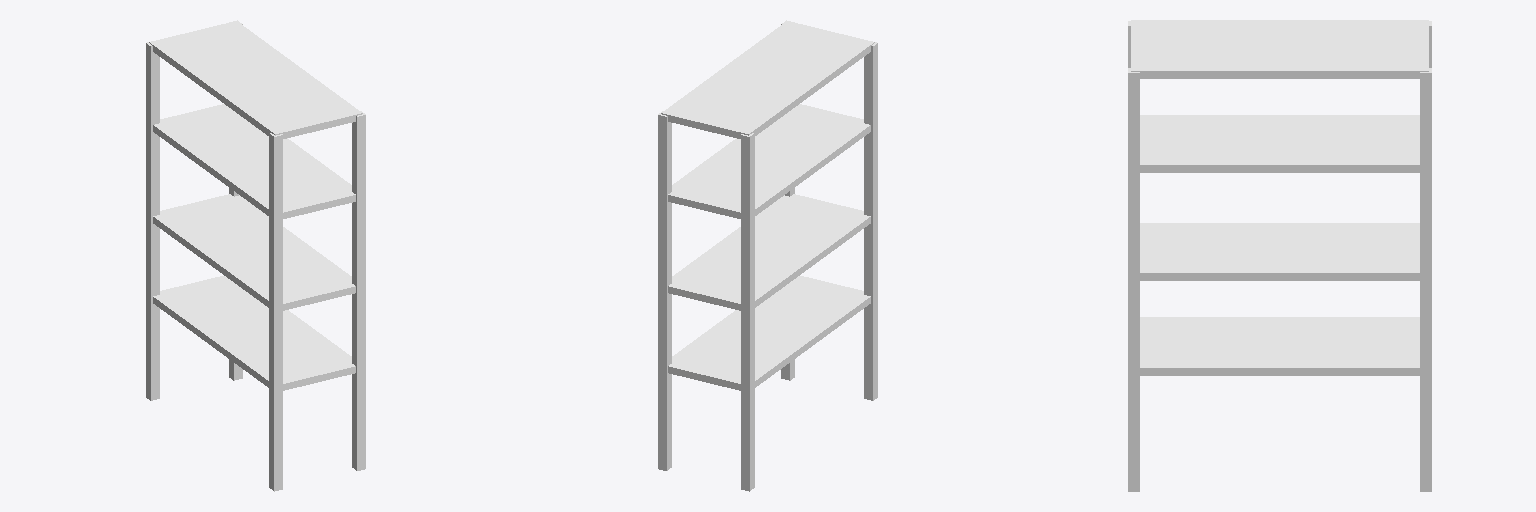
robot.urdf — environment:
<?xml version="1.0"?>
<robot name="environment">

<material name="white">
  <color rgba="1 1 1 1"/>
</material>

<!-- base -->
  <link name="base_link">
  <visual>
   <geometry>
    <cylinder length="0.0" radius="0.0"/>
   </geometry>
   <origin rpy = "0 0 0" xyz = "0 0 0"/>
  </visual>
  </link>
  
  <!-- body -->

   <!-- lv1-->
  <link name = "lv_1">
    <visual>
      <geometry>
        <box size="0.4 1.0 0.03"/>
      </geometry>
      <material name="white"/>
      <origin rpy = "0 0 0" xyz = "0 0 0"/>
    </visual>
  </link>
  <joint name = "base_to_lv_1" type = "fixed">
    <parent link = "base_link"/>
    <child link = "lv_1"/>
    <origin rpy="0 0 0.0" xyz="0 0 0.45"/> 
  </joint>
   <!-- lv2-->
  <link name = "lv_2">
    <visual>
      <geometry>
        <box size="0.4 1.0 0.03"/>
      </geometry>
      <material name="white"/>
      <origin rpy = "0 0 0" xyz = "0 0 0"/>
    </visual>
  </link>
  <joint name = "base_to_lv_2" type = "fixed">
    <parent link = "base_link"/>
    <child link = "lv_2"/>
    <origin rpy="0 0 0.0" xyz="0 0 0.8"/> 
  </joint>
   <!-- lv3-->
  <link name = "lv_3">
    <visual>
      <geometry>
        <box size="0.4 1.0 0.03"/>
      </geometry>
      <material name="white"/>
      <origin rpy = "0 0 0" xyz = "0 0 0"/>
    </visual>
  </link>
  <joint name = "base_to_lv_3" type = "fixed">
    <parent link = "base_link"/>
    <child link = "lv_3"/>
    <origin rpy="0 0 0.0" xyz="0 0 1.2"/> 
  </joint>
   <!-- lv4-->
  <link name = "lv_4">
    <visual>
      <geometry>
        <box size="0.4 1.0 0.03"/>
      </geometry>
      <material name="white"/>
      <origin rpy = "0 0 0" xyz = "0 0 0"/>
    </visual>
  </link>
  <joint name = "base_to_lv_4" type = "fixed">
    <parent link = "base_link"/>
    <child link = "lv_4"/>
    <origin rpy="0 0 0.0" xyz="0 0 1.55"/> 
  </joint>
  <!-- lf-->
  <link name = "lf">
    <visual>
      <geometry>
        <box size="0.04 0.04 1.55"/>
      </geometry>
      <material name="white"/>
      <origin rpy = "0 0 0" xyz = "0 0 0"/>
    </visual>
  </link>
  <joint name = "base_to_lf" type = "fixed">
    <parent link = "base_link"/>
    <child link = "lf"/>
    <origin rpy="0 0 0.0" xyz="0.19 0.49 0.785"/> 
  </joint>
  <!-- rf-->
  <link name = "rf">
    <visual>
      <geometry>
        <box size="0.04 0.04 1.55"/>
      </geometry>
      <material name="white"/>
      <origin rpy = "0 0 0" xyz = "0 0 0"/>
    </visual>
  </link>
  <joint name = "base_to_rf" type = "fixed">
    <parent link = "base_link"/>
    <child link = "rf"/>
    <origin rpy="0 0 0.0" xyz="0.19 -0.49 0.785"/> 
  </joint>
  <!-- lb-->
  <link name = "lb">
    <visual>
      <geometry>
        <box size="0.04 0.04 1.55"/>
      </geometry>
      <material name="white"/>
      <origin rpy = "0 0 0" xyz = "0 0 0"/>
    </visual>
  </link>
  <joint name = "base_to_lb" type = "fixed">
    <parent link = "base_link"/>
    <child link = "lb"/>
    <origin rpy="0 0 0.0" xyz="-0.19 0.49 0.785"/> 
  </joint>
  <!-- rb-->
  <link name = "rb">
    <visual>
      <geometry>
        <box size="0.04 0.04 1.55"/>
      </geometry>
      <material name="white"/>
      <origin rpy = "0 0 0" xyz = "0 0 0"/>
    </visual>
  </link>
  <joint name = "base_to_rb" type = "fixed">
    <parent link = "base_link"/>
    <child link = "rb"/>
    <origin rpy="0 0 0.0" xyz="-0.19 -0.49 0.785"/> 
  </joint>

</robot>

--- Facts derived from the render (not from the file) ---
The picture shows the robot from 3 angles, left to right: view 1: azimuth 30°, elevation 25°; view 2: azimuth 150°, elevation 25°; view 3: azimuth 270°, elevation 25°; orthographic projection.
Model environment with 9 links and 8 joints (8 fixed), rooted at base_link, posed all joints at 0.
Visible links, largest first — view 1: lv_4, lv_2, lv_3, lv_1, rb, rf, lb; view 2: lv_4, lv_2, lv_3, lv_1, lb, lf, rb; view 3: lv_4, lv_1, lv_2, lv_3, lf, rf.
Boxes of the visible links, left/top/right/bottom form: lv_4: left=149, top=21, right=362, bottom=138; lv_2: left=153, top=194, right=355, bottom=310; lv_3: left=153, top=104, right=355, bottom=218; lv_1: left=153, top=276, right=355, bottom=390; rb: left=269, top=133, right=282, bottom=491; rf: left=352, top=111, right=365, bottom=470; lb: left=146, top=41, right=159, bottom=400; lv_4: left=661, top=21, right=874, bottom=138; lv_2: left=668, top=194, right=870, bottom=310; lv_3: left=668, top=104, right=870, bottom=218; lv_1: left=668, top=276, right=870, bottom=390; lb: left=741, top=133, right=754, bottom=491; lf: left=658, top=111, right=671, bottom=470; rb: left=864, top=41, right=877, bottom=400; lv_4: left=1131, top=20, right=1428, bottom=78; lv_1: left=1140, top=317, right=1419, bottom=375; lv_2: left=1140, top=223, right=1419, bottom=280; lv_3: left=1140, top=115, right=1419, bottom=172; lf: left=1420, top=68, right=1431, bottom=491; rf: left=1128, top=68, right=1139, bottom=491.
Bounding box of the posed robot: 0.42 × 1.02 × 1.56 m (x, y, z).
Geometry: primitives only (box / cylinder / sphere), no mesh files.